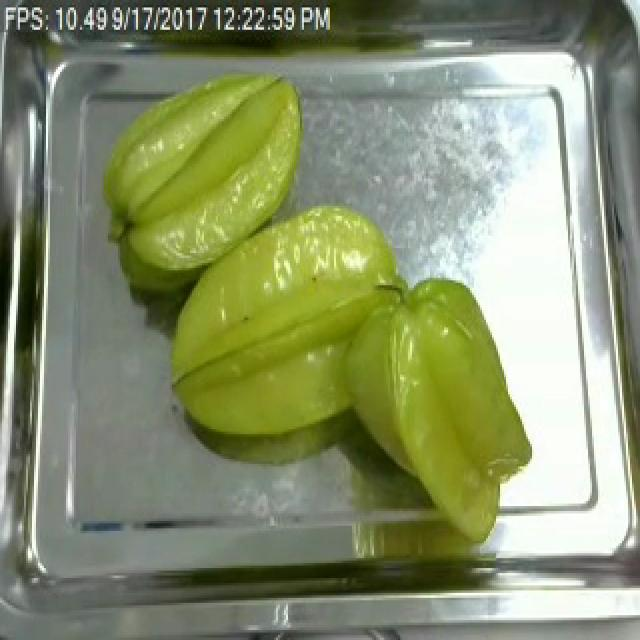fruit: (158, 194, 416, 452), (328, 266, 544, 563), (94, 64, 314, 280)
